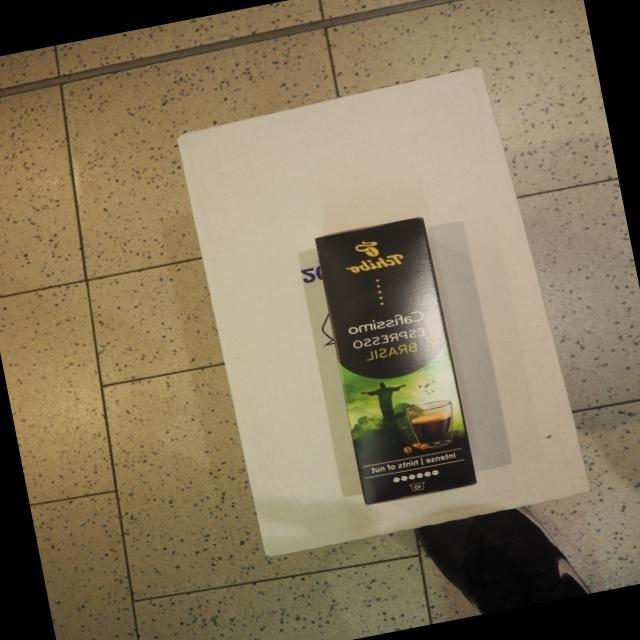Simo Es Brazil: (310, 214, 482, 506)
